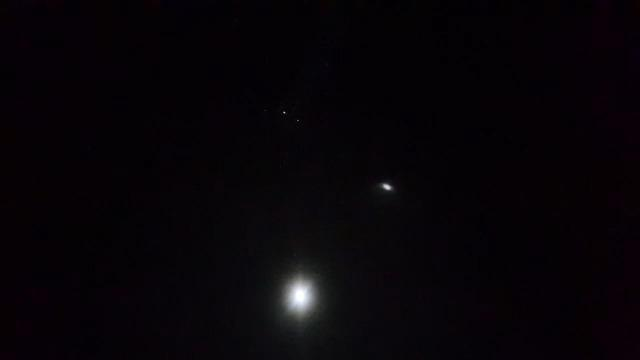Plane: (255, 99, 307, 134)
